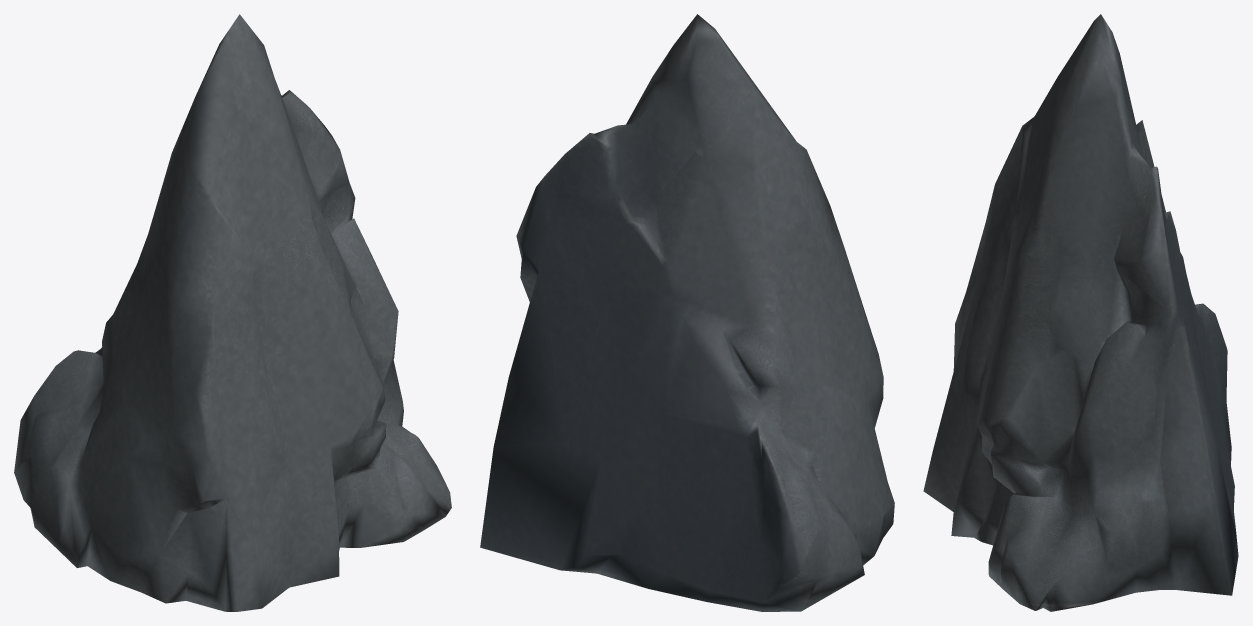
The model's file is prp_rock_crag_a.glb.
The picture shows the model from 3 angles, left to right: view 1: azimuth 30°, elevation 25°; view 2: azimuth 150°, elevation 25°; view 3: azimuth 270°, elevation 25°; orthographic projection. The views are drawn at different scales.
Parts seen in each view (by area): view 1: prp_rock_crag_a; view 2: prp_rock_crag_a; view 3: prp_rock_crag_a.
Boxes of the visible parts, x1,y1,x2,y2 form: prp_rock_crag_a: [14, 14, 451, 611]; prp_rock_crag_a: [480, 14, 894, 611]; prp_rock_crag_a: [923, 14, 1238, 611].
Size of the model in its own units: 4.32 by 6 by 3.36.
Materials: 1 (1 with a texture image).
